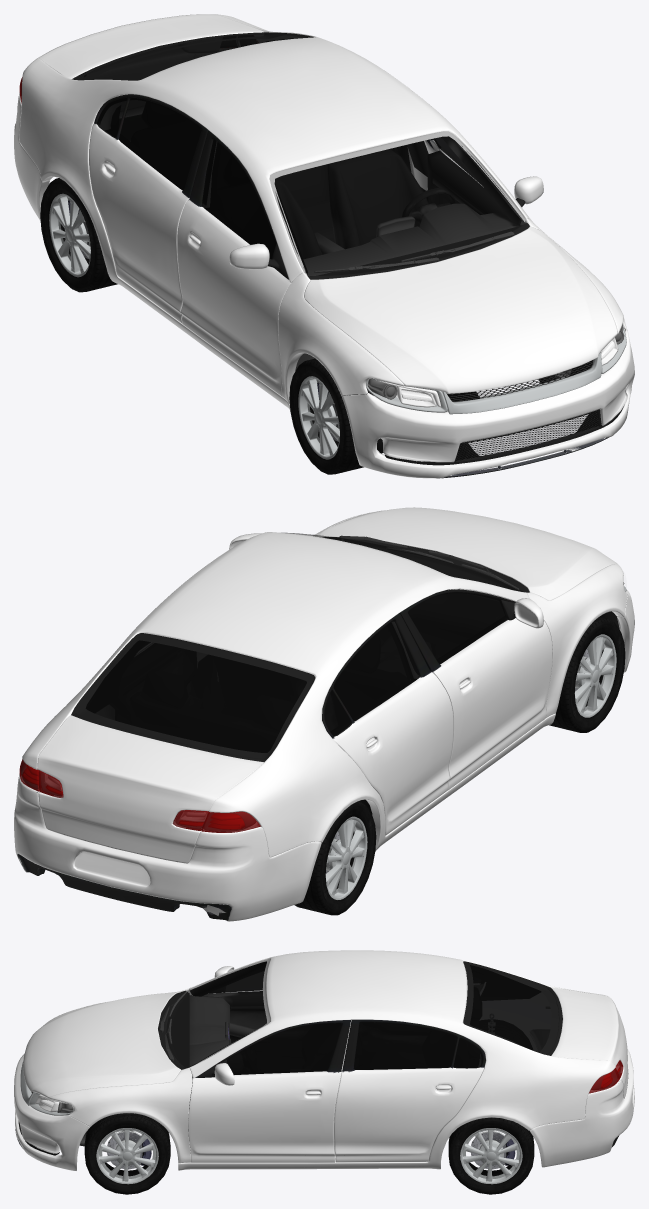
File: car_sedan_hi.glb
3 views of the same model, one above another, from view 1: azimuth 30°, elevation 25°; view 2: azimuth 150°, elevation 25°; view 3: azimuth 270°, elevation 25° (orthographic). The views are drawn at different scales.
Parts seen in each view (by area): view 1: lod0, WheelFrontR, WheelRearR; view 2: lod0, WheelFrontR, WheelRearR; view 3: lod0, WheelFrontL, WheelRearL.
Boxes of the visible parts, x1,y1,x2,y2 form: lod0: (14, 14, 634, 478); WheelFrontR: (289, 358, 363, 474); WheelRearR: (40, 178, 117, 292); lod0: (14, 507, 634, 921); WheelFrontR: (549, 617, 625, 732); WheelRearR: (294, 801, 376, 915); lod0: (14, 950, 634, 1170); WheelFrontL: (84, 1113, 170, 1194); WheelRearL: (448, 1117, 534, 1194).
Size of the model in its own units: 2.1 by 1.5 by 4.98.
23 materials, 6 textured.
